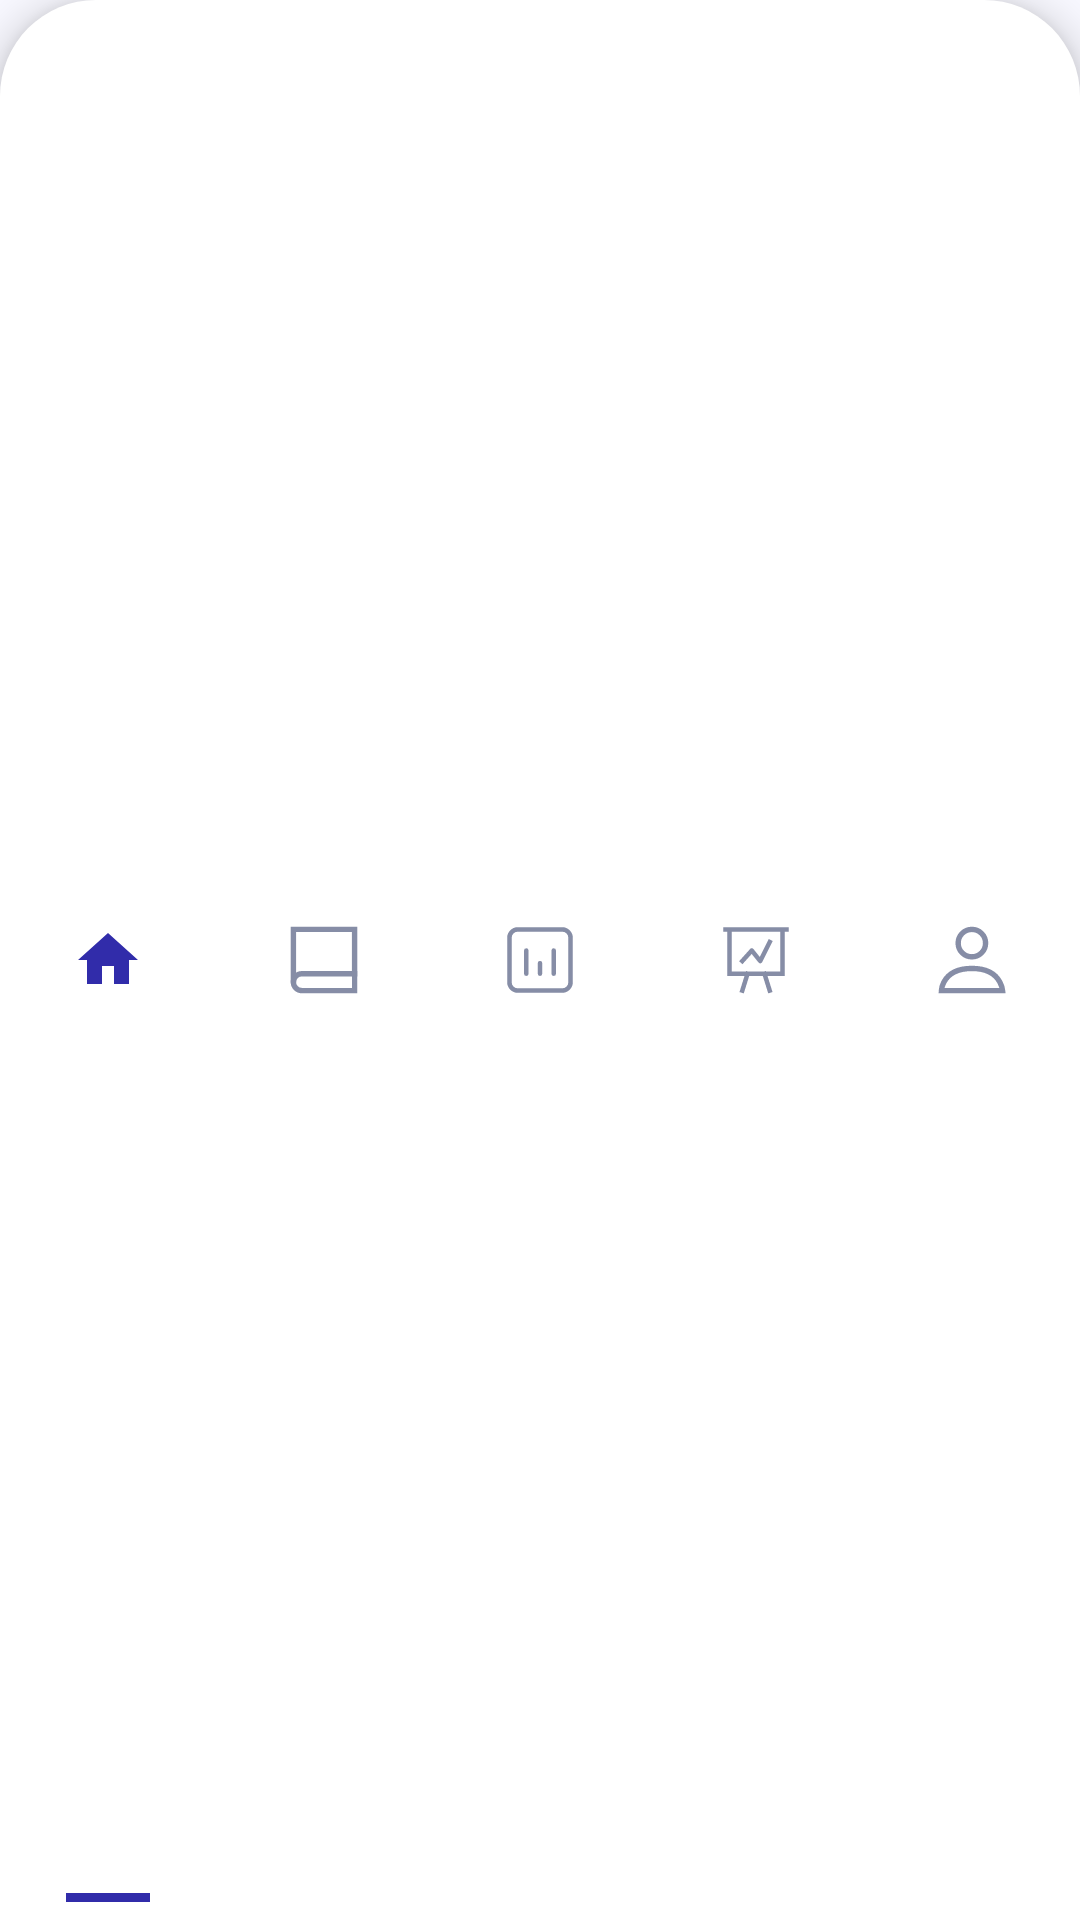

Where to tap for icons on this 1080x1920 app screen, as (x,y):
analytics: (540,960)
home: (108,958)
person nav: (972,960)
presentation: (756,960)
